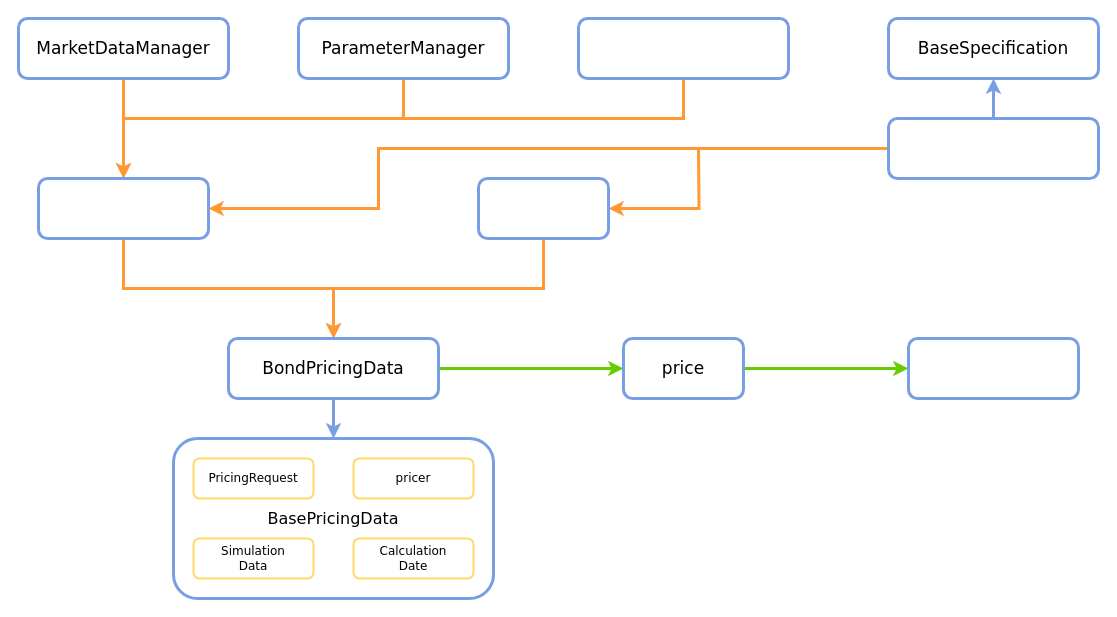
The diagram is 1117 pixels wide and 617 high, and some of its shapes have lost their labels. The shapes that lost their labels are listed below. From the top down, each one's centre as x and y in pixels, then its label:
point (683, 48): CalibrationStorage
point (993, 148): BondSpecification
point (123, 208): getPricingData
point (543, 208): manual
point (993, 368): PricingResults
